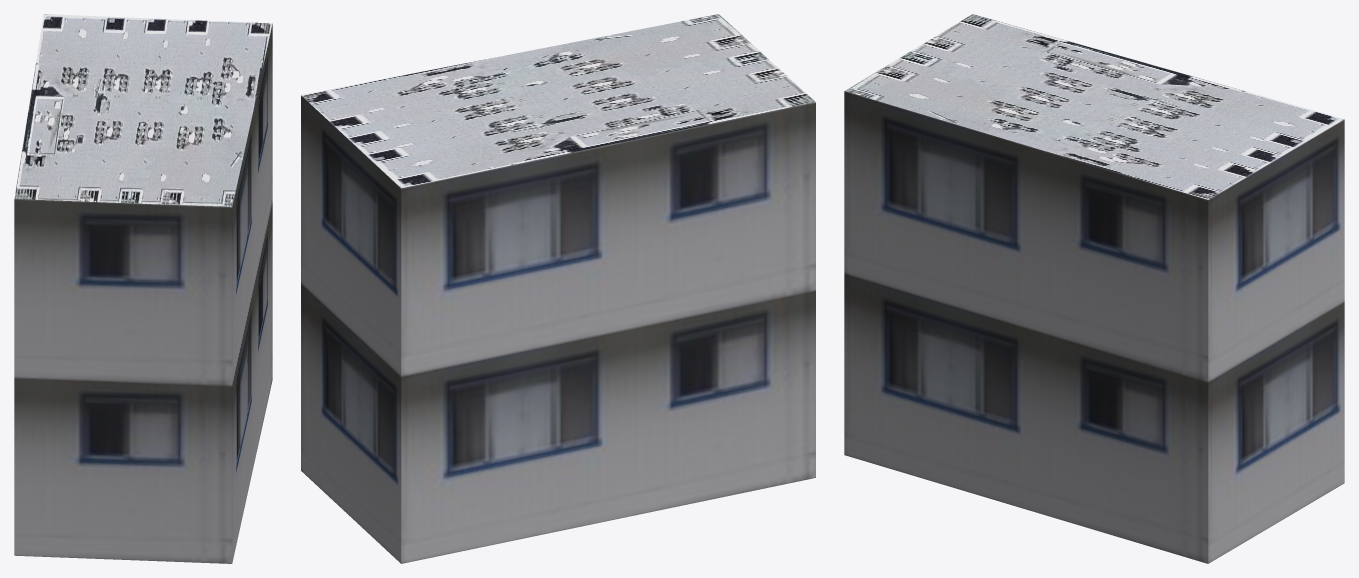
The model's file is ResTex__4463.fbx.
3 renders of one model, left to right at view 1: azimuth 30°, elevation 25°; view 2: azimuth 150°, elevation 25°; view 3: azimuth 270°, elevation 25°, orthographic. The views are drawn at different scales.
Visible parts, largest first — view 1: CityEngineMaterial_9_m, CityEngineMaterial_4_m; view 2: CityEngineMaterial_9_m, CityEngineMaterial_4_m; view 3: CityEngineMaterial_9_m, CityEngineMaterial_4_m.
Boxes of the visible parts, x1=… form: CityEngineMaterial_9_m: x1=14, y1=24, x2=272, y2=563; CityEngineMaterial_4_m: x1=14, y1=14, x2=272, y2=207; CityEngineMaterial_9_m: x1=301, y1=95, x2=815, y2=563; CityEngineMaterial_4_m: x1=301, y1=14, x2=815, y2=188; CityEngineMaterial_9_m: x1=844, y1=91, x2=1344, y2=563; CityEngineMaterial_4_m: x1=845, y1=14, x2=1343, y2=199.
Size of the model in its own units: 6.57 by 6 by 7.47.
Materials: 2 (2 with a texture image).
